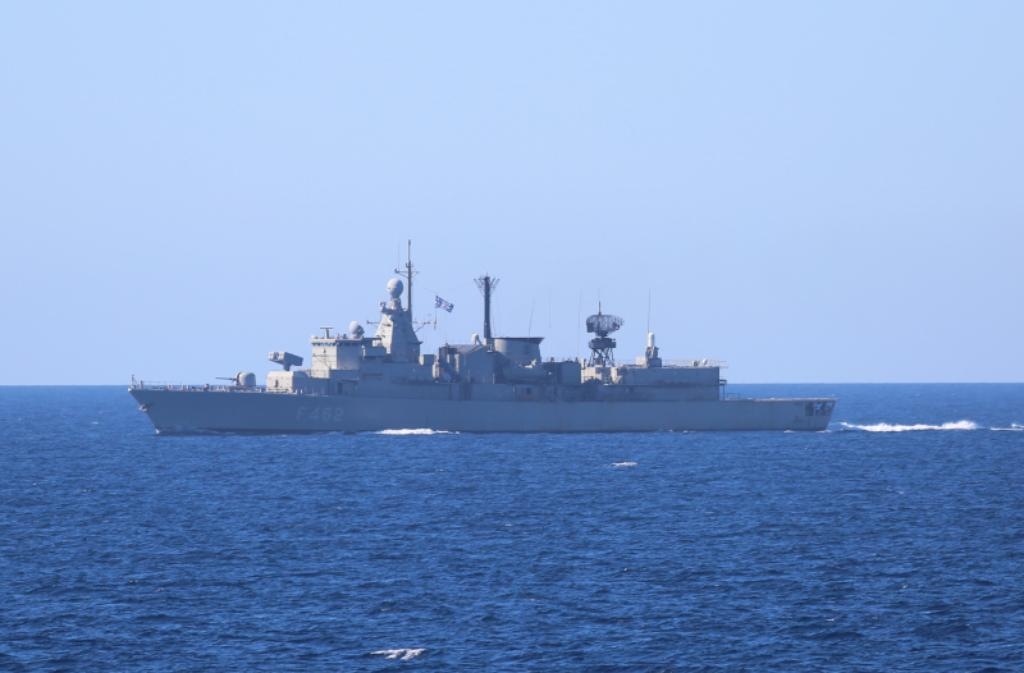Warship: (122, 223, 840, 441)
